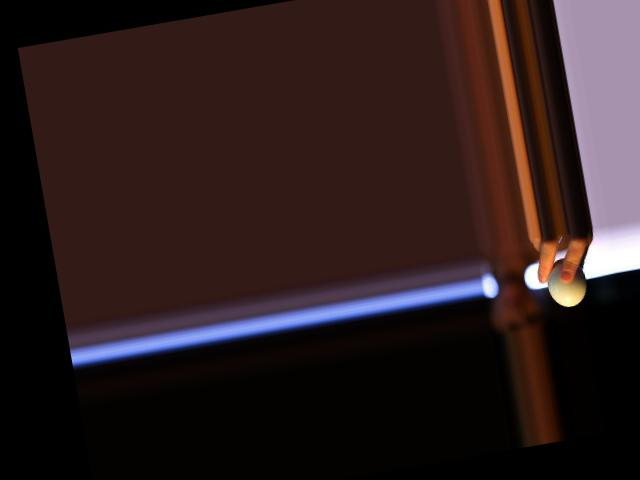egg: (542, 254, 589, 309)
